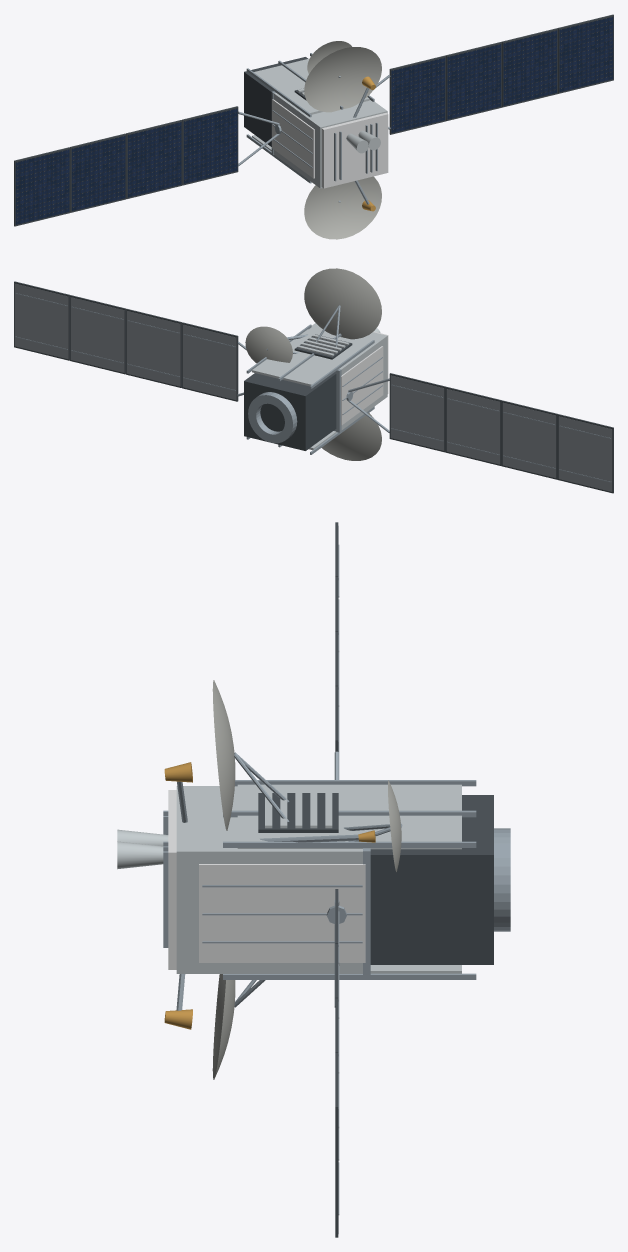
Rendered from amc-a2100ax-hybrid.glb.
The picture shows the model from 3 angles, top to bottom: view 1: azimuth 30°, elevation 25°; view 2: azimuth 150°, elevation 25°; view 3: azimuth 270°, elevation 25°; orthographic projection. The views are drawn at different scales.
Visible parts, largest first — view 1: Solar cell panel (×8), Communications reflector (×3), Solar panel frame (×8), Earth-facing deck, Payload module, Radiator face, Service module, Equipment bay sidewall; view 2: Rear array substrate (×8), Communications reflector (×3), Service module, Solar panel frame (×8), Equipment bay sidewall, Radiator face, Launch adapter ring, Payload module, Louvre surround, Module interface; view 3: Service module, Radiator face, Payload module, Equipment bay sidewall, Equipment bay longeron (×4), Communications reflector (×2), Louvre surround, Launch adapter ring, Earth-facing deck, Payload feed cluster.
Boxes of the visible parts, bbox=[...] form: Solar cell panel (×8): bbox=[15, 16, 613, 224]; Communications reflector (×3): bbox=[304, 41, 381, 239]; Solar panel frame (×8): bbox=[14, 14, 613, 226]; Earth-facing deck: bbox=[321, 112, 388, 188]; Payload module: bbox=[274, 93, 387, 188]; Radiator face: bbox=[272, 99, 314, 178]; Service module: bbox=[244, 57, 307, 146]; Equipment bay sidewall: bbox=[254, 58, 369, 114]; Rear array substrate (×8): bbox=[14, 283, 612, 491]; Communications reflector (×3): bbox=[245, 268, 381, 460]; Service module: bbox=[244, 373, 336, 450]; Solar panel frame (×8): bbox=[14, 281, 613, 493]; Equipment bay sidewall: bbox=[252, 329, 367, 386]; Radiator face: bbox=[341, 346, 383, 425]; Launch adapter ring: bbox=[248, 392, 297, 443]; Payload module: bbox=[309, 323, 387, 429]; Louvre surround: bbox=[294, 334, 352, 359]; Module interface: bbox=[333, 369, 341, 432]; Service module: bbox=[370, 795, 493, 964]; Radiator face: bbox=[199, 864, 365, 962]; Payload module: bbox=[176, 786, 362, 973]; Equipment bay sidewall: bbox=[237, 784, 461, 849]; Equipment bay longeron (×4): bbox=[223, 780, 476, 979]; Communications reflector (×2): bbox=[212, 680, 235, 1079]; Louvre surround: bbox=[258, 793, 338, 832]; Launch adapter ring: bbox=[494, 828, 510, 931]; Earth-facing deck: bbox=[168, 790, 176, 969]; Payload feed cluster: bbox=[117, 841, 163, 869].
Bounding box in the file's own units: 26.77 × 8.12 × 7.61.
8 materials, 1 textured.
